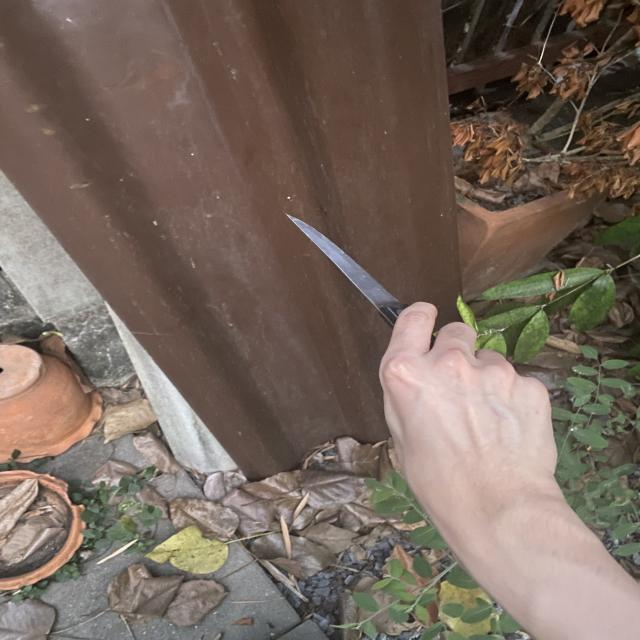faca: (269, 209, 552, 439)
